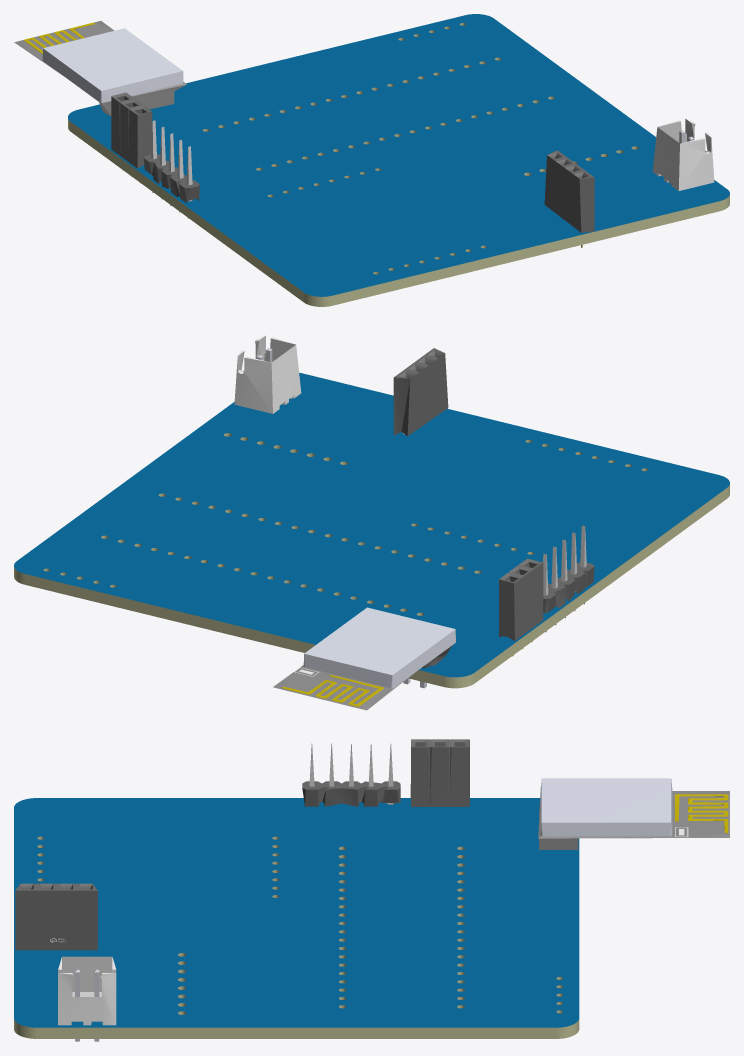
The model's file is board.glb.
The picture shows the model from 3 angles, top to bottom: view 1: azimuth 30°, elevation 25°; view 2: azimuth 150°, elevation 25°; view 3: azimuth 270°, elevation 25°; orthographic projection. The views are drawn at different scales.
Parts seen in each view (by area): view 1: 3D_智能头盔基础板PCB_2026-03-27; view 2: 3D_智能头盔基础板PCB_2026-03-27; view 3: 3D_智能头盔基础板PCB_2026-03-27.
Part boxes in pixels (x1,y1,x2,y2): 3D_智能头盔基础板PCB_2026-03-27: (14, 14, 729, 306); 3D_智能头盔基础板PCB_2026-03-27: (14, 335, 729, 710); 3D_智能头盔基础板PCB_2026-03-27: (14, 739, 729, 1041).
Bounding box in the file's own units: 7.72 × 1.3 × 10.17.
